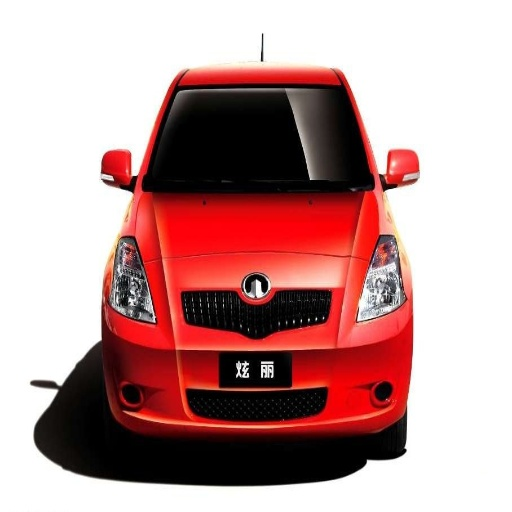front_bumper: (108, 258, 412, 435)
front_right_light: (104, 238, 160, 326)
hood: (131, 190, 381, 260)
left_mirror: (383, 149, 419, 190)
